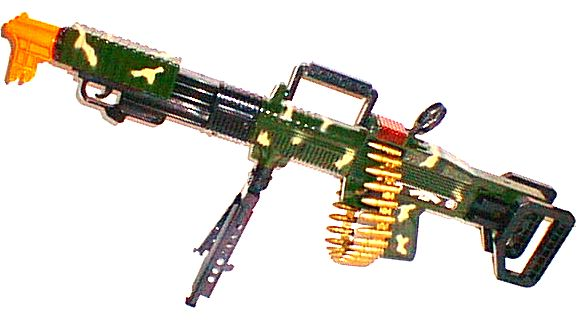rifle: (6, 13, 564, 310)
